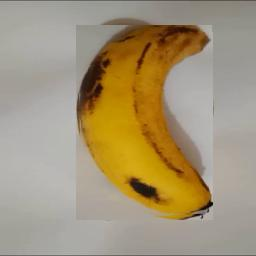Banana Semifresh: (77, 25, 214, 220)
